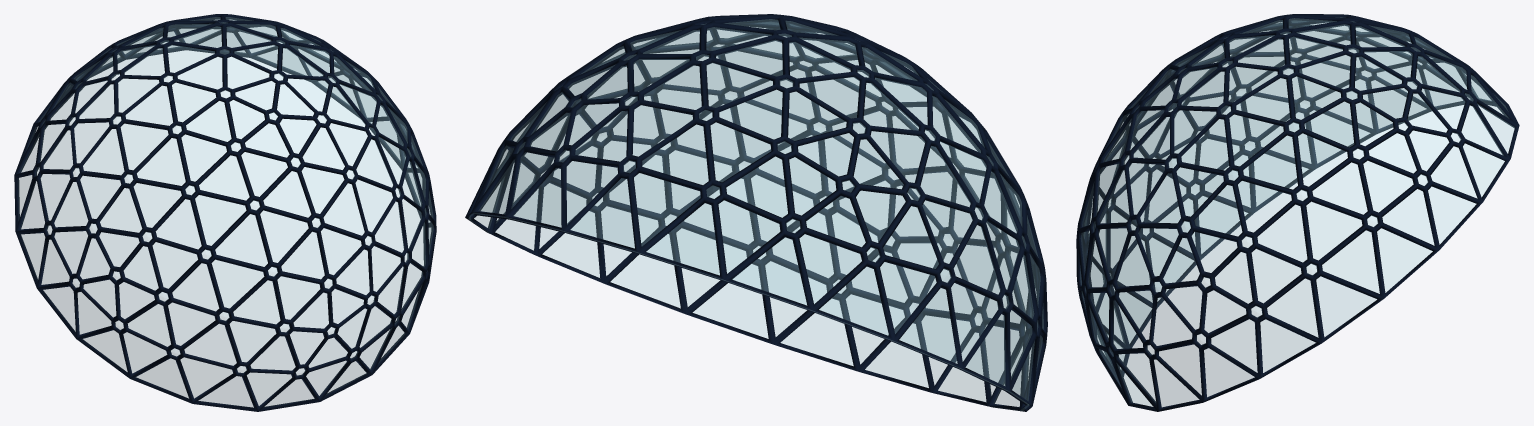
The model's file is invernadero1.fbx.
The picture shows the model from 3 angles, left to right: view 1: azimuth 30°, elevation 25°; view 2: azimuth 150°, elevation 25°; view 3: azimuth 270°, elevation 25°; orthographic projection. The views are drawn at different scales.
Parts seen in each view (by area): view 1: Icosphere.002, Icosphere.001; view 2: Icosphere.002, Icosphere.001; view 3: Icosphere.002, Icosphere.001.
Part boxes in pixels (x1=…): Icosphere.002: x1=18, y1=17, x2=433, y2=407; Icosphere.001: x1=14, y1=14, x2=436, y2=411; Icosphere.002: x1=468, y1=19, x2=1043, y2=410; Icosphere.001: x1=465, y1=14, x2=1047, y2=411; Icosphere.002: x1=1080, y1=17, x2=1514, y2=406; Icosphere.001: x1=1076, y1=14, x2=1519, y2=411.
Bounding box in the file's own units: 1.01 × 0.7843 × 0.9184.
